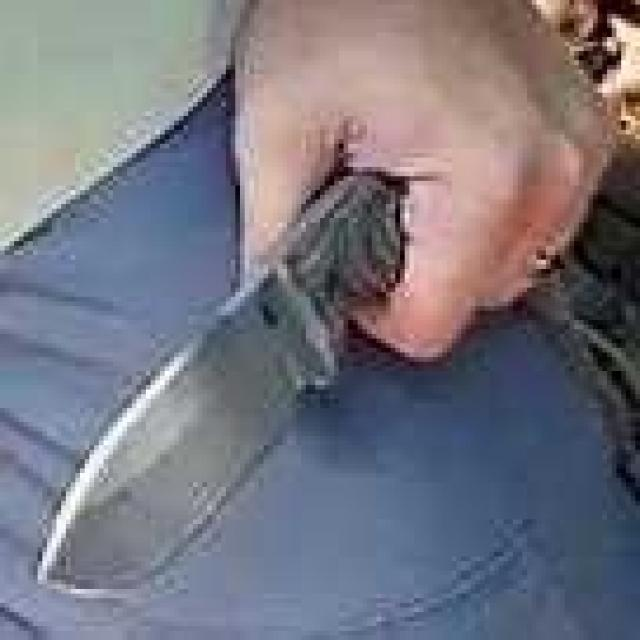Knife: (29, 0, 616, 603)
